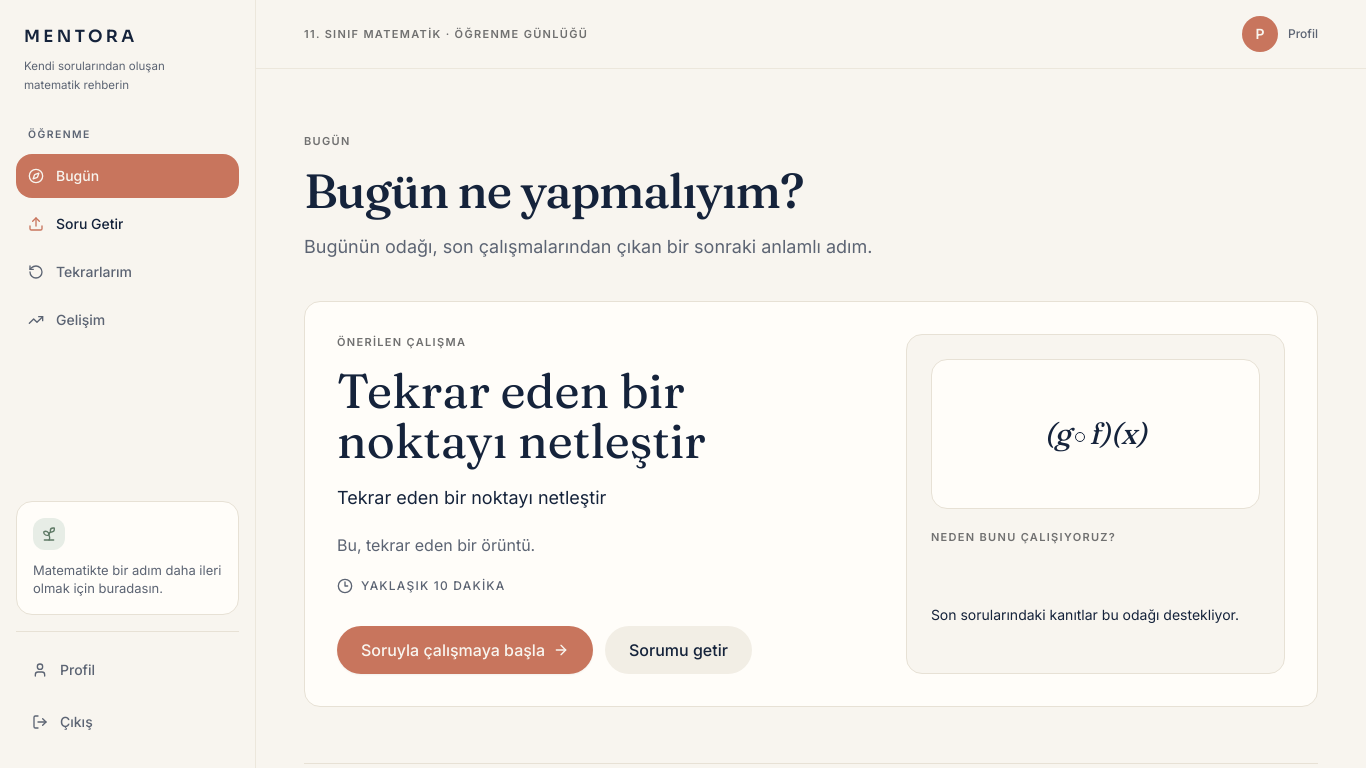
Scenario: App › navigates between product destinations through the shell
This screenshot has width=1366, height=768.
Expected: the heading "Bugün ne yapmalıyım?" is shown, [304,161,803,220]
Click the button "Soru Getir": [128, 224] box [16,202,239,246]
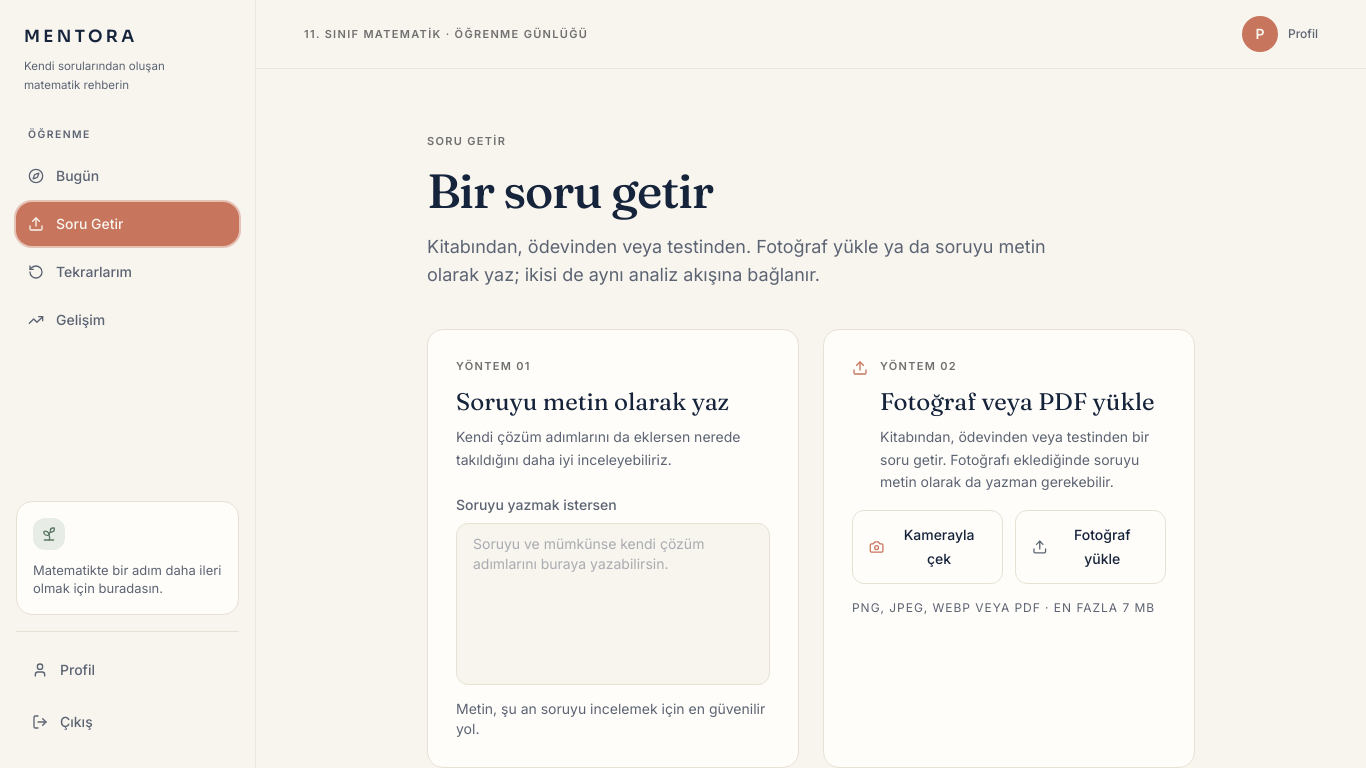
Expected: the heading "Bir soru getir" is shown, [427,161,713,220]
